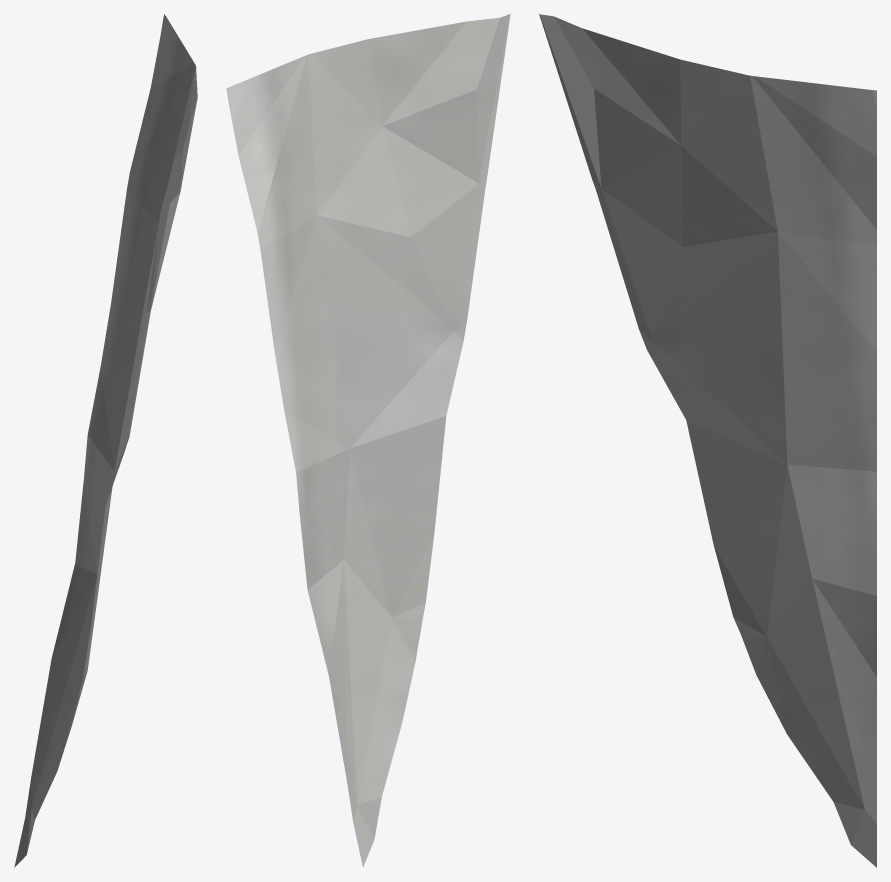
3 views of the same model, side by side, from view 1: azimuth 30°, elevation 25°; view 2: azimuth 150°, elevation 25°; view 3: azimuth 270°, elevation 25° (orthographic). The views are drawn at different scales.
Size of the model in its own units: 0.0426 by 0.2222 by 0.0797.
Materials: 1 (1 with a texture image).
